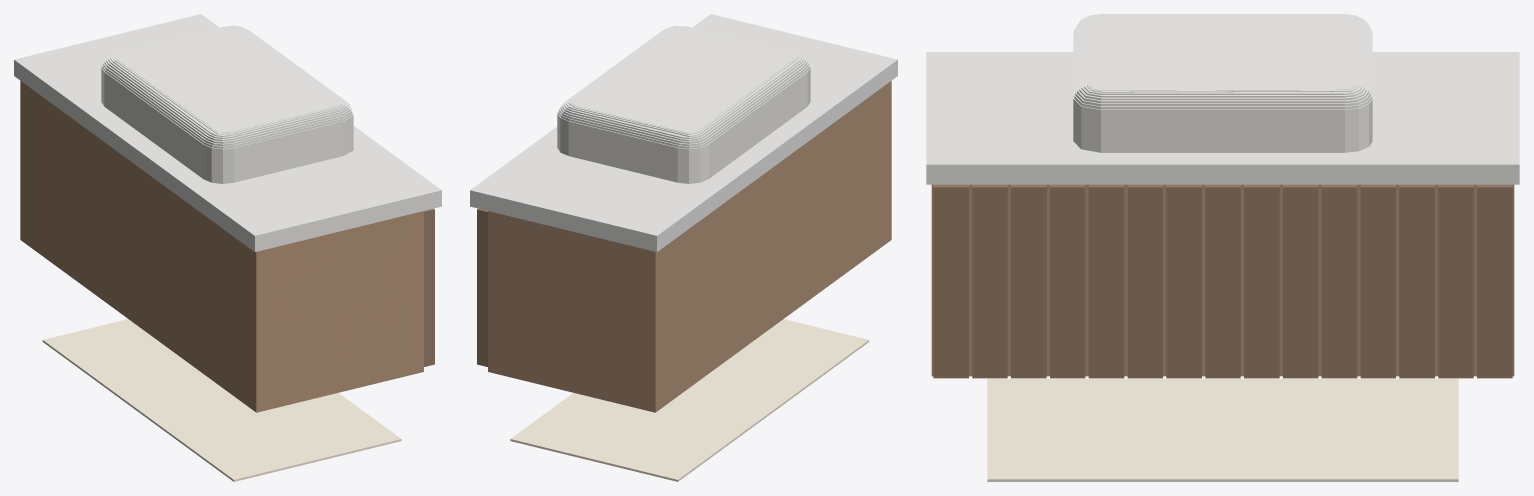
The model's file is SM_Vanity_Floating.fbx.
The picture shows the model from 3 angles, left to right: view 1: azimuth 30°, elevation 25°; view 2: azimuth 150°, elevation 25°; view 3: azimuth 270°, elevation 25°; orthographic projection. The views are drawn at different scales.
Parts seen in each view (by area): view 1: SM_Vanity_Floating; view 2: SM_Vanity_Floating; view 3: SM_Vanity_Floating.
Boxes of the visible parts, x1,y1,x2,y2 form: SM_Vanity_Floating: (14, 14, 441, 481); SM_Vanity_Floating: (470, 14, 897, 481); SM_Vanity_Floating: (926, 14, 1519, 481).
Bounding box in the file's own units: 48 × 76 × 107.
